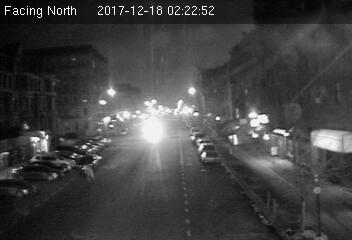car: (76, 153, 101, 170), (198, 150, 222, 164)
